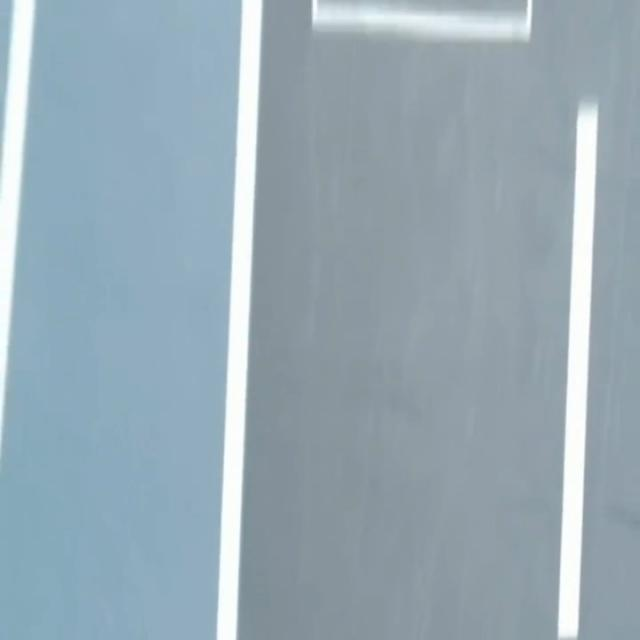center: (558, 101, 598, 639)
left: (217, 0, 261, 639)
